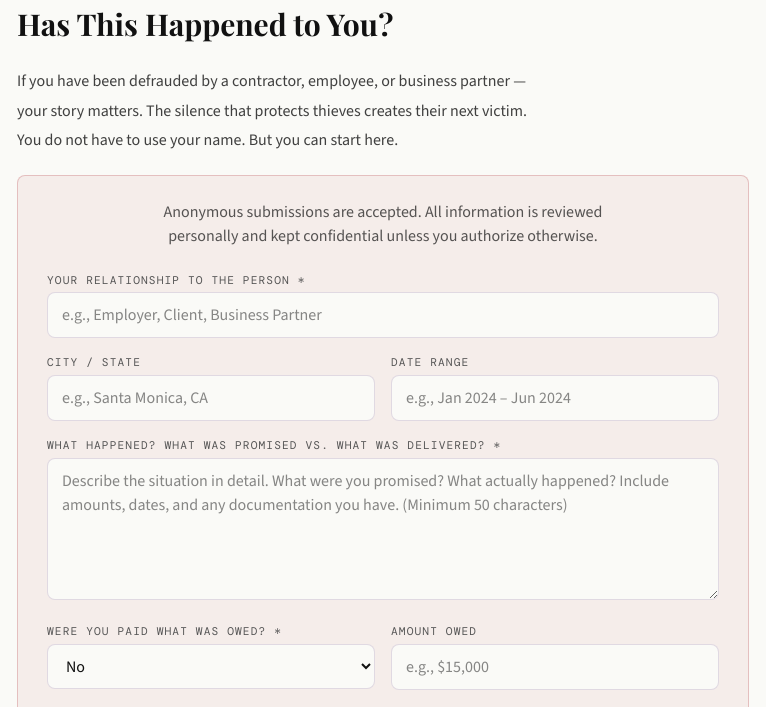
/protecting-your-business › sends a reader's story from the inline form, tagged with this page
(page scrolled)
Type "Employer" into the field labelled "Your relationship to the person *".
click(383, 316); type("Employer")  # box [47, 292, 719, 338]
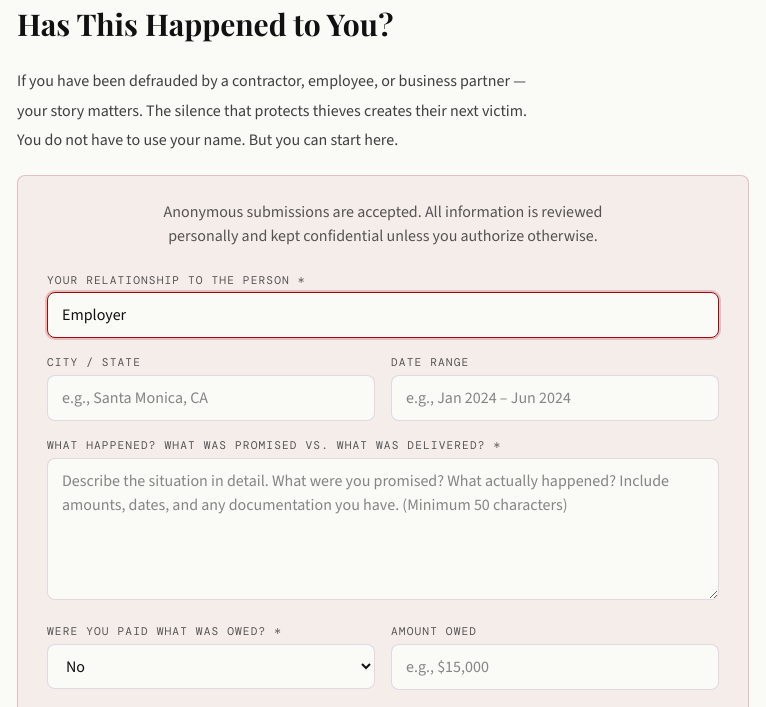
Type "Hired a bookkeeper who submitted fake invoices for months before anyone noticed." into the text box labelled "What happened? What was promised vs. what was delivered? *".
click(383, 529); type("Hired a bookkeeper who submitted fake invoices for months before anyone noticed.")  # box [47, 458, 719, 600]
(page scrolled)
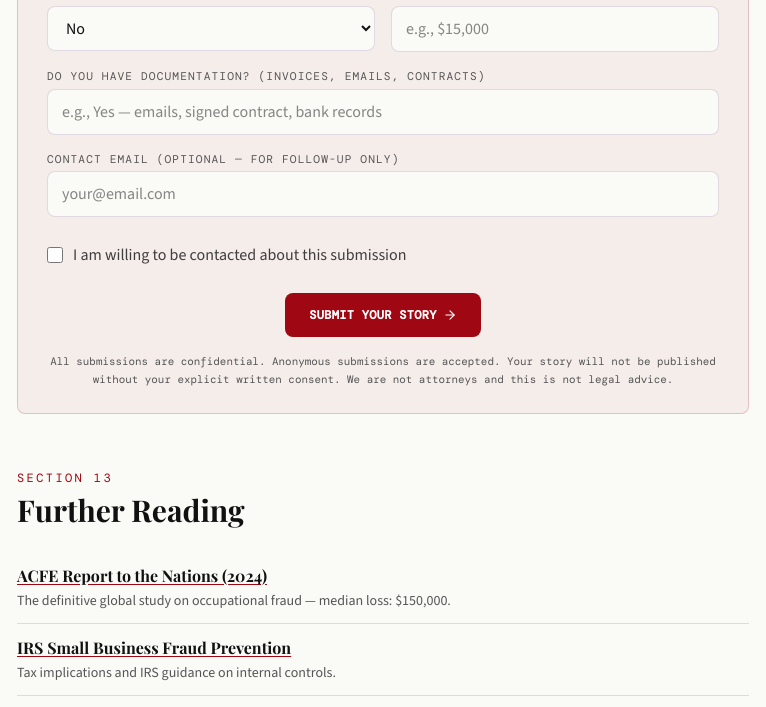
Click the button "Submit Your Story".
click(383, 316)  # box [285, 294, 481, 338]
(page scrolled)
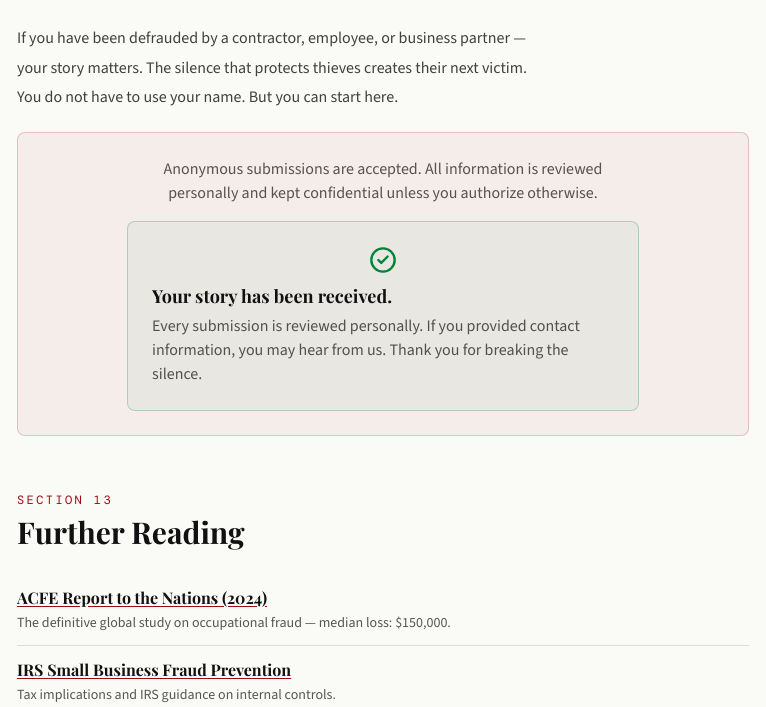
Check: the message shows "Your story has been received.", box [152, 284, 392, 308]
